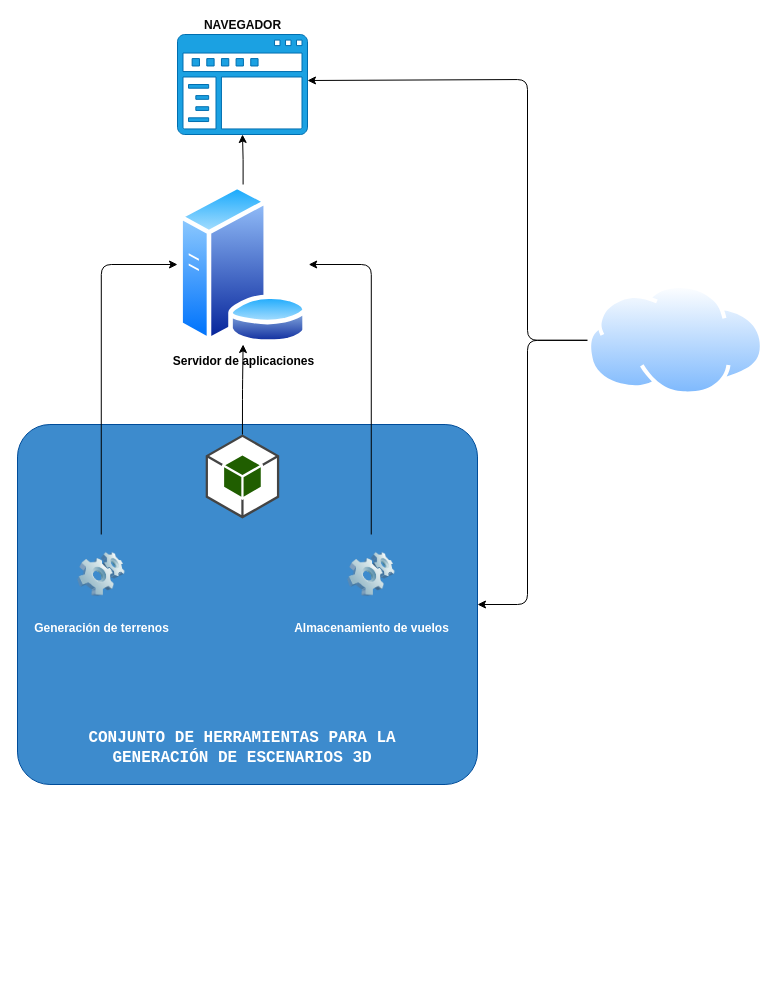
Image size: 782x981. Some labels were removed from this diagram. Here are the shapes that lost their labels. From the top down, the centre of each, then its label:
the point at 675,340: SERVICIOS
the point at 242,476: COMPONENTES DE NEGOCIO
